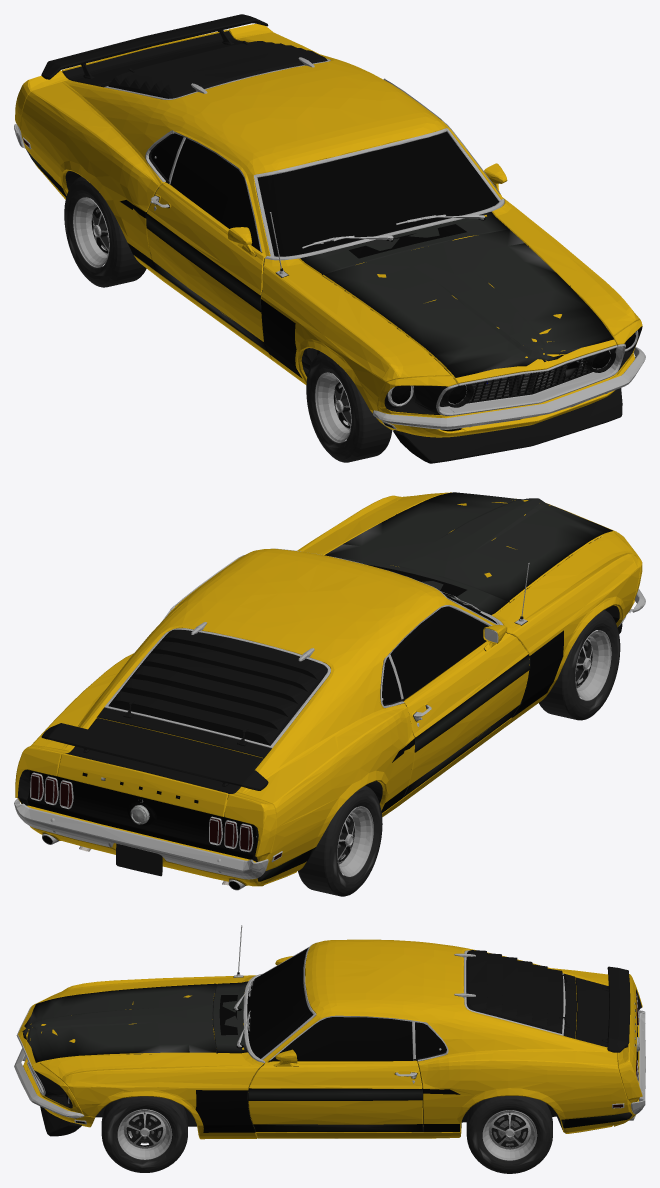
The model's file is sedan_mustang.glb.
3 renders of one model, top to bottom at view 1: azimuth 30°, elevation 25°; view 2: azimuth 150°, elevation 25°; view 3: azimuth 270°, elevation 25°, orthographic. The views are drawn at different scales.
Visible parts, largest first — view 1: _M_Badge_Maxgroup1_Badge_0, _group1M_Glass_WindowRight_Max.002_Window_0, polySurface137__Ford_Mustang302LP_1970_Wheel2A_3D_3DWheel2A_, polySurface400__Ford_Mustang302LP_1970_Wheel2A_3D_3DWheel2A_, _group1M_Rim_Main_Max3, _group1M_Rim_Main_Max1; view 2: _M_Badge_Maxgroup1_Badge_0, _group1M_Glass_WindowRight_Max.002_Window_0, polySurface400__Ford_Mustang302LP_1970_Wheel2A_3D_3DWheel2A_, polySurface137__Ford_Mustang302LP_1970_Wheel2A_3D_3DWheel2A_, _group1M_Rim_Main_Max1, _group1M_Rim_Main_Max3; view 3: _M_Badge_Maxgroup1_Badge_0, _group1M_Glass_WindowRight_Max.002_Window_0, polySurface273__Ford_Mustang302LP_1970_Wheel2A_3D_3DWheel2A_, polySurface1__Ford_Mustang302LP_1970_Wheel2A_3D_3DWheel2A_Ma, _group1M_Rim_Main_Max, _group1M_Rim_Main_Max2.
Part boxes in pixels (left/top/right/bottom): _M_Badge_Maxgroup1_Badge_0: left=14, top=14, right=645, bottom=463; _group1M_Glass_WindowRight_Max.002_Window_0: left=23, top=131, right=499, bottom=256; polySurface137__Ford_Mustang302LP_1970_Wheel2A_3D_3DWheel2A_: left=306, top=352, right=392, bottom=462; polySurface400__Ford_Mustang302LP_1970_Wheel2A_3D_3DWheel2A_: left=64, top=176, right=146, bottom=287; _group1M_Rim_Main_Max3: left=73, top=197, right=109, bottom=267; _group1M_Rim_Main_Max1: left=315, top=372, right=351, bottom=442; _M_Badge_Maxgroup1_Badge_0: left=14, top=492, right=645, bottom=890; _group1M_Glass_WindowRight_Max.002_Window_0: left=31, top=594, right=496, bottom=860; polySurface400__Ford_Mustang302LP_1970_Wheel2A_3D_3DWheel2A_: left=298, top=786, right=382, bottom=896; polySurface137__Ford_Mustang302LP_1970_Wheel2A_3D_3DWheel2A_: left=539, top=610, right=620, bottom=720; _group1M_Rim_Main_Max1: left=575, top=630, right=611, bottom=700; _group1M_Rim_Main_Max3: left=337, top=806, right=373, bottom=876; _M_Badge_Maxgroup1_Badge_0: left=14, top=925, right=645, bottom=1139; _group1M_Glass_WindowRight_Max.002_Window_0: left=247, top=948, right=638, bottom=1107; polySurface273__Ford_Mustang302LP_1970_Wheel2A_3D_3DWheel2A_: left=466, top=1096, right=552, bottom=1173; polySurface1__Ford_Mustang302LP_1970_Wheel2A_3D_3DWheel2A_Ma: left=101, top=1096, right=187, bottom=1172; _group1M_Rim_Main_Max: left=117, top=1109, right=172, bottom=1159; _group1M_Rim_Main_Max2: left=482, top=1110, right=537, bottom=1160.
Bounding box in the file's own units: 0.0184 × 0.0131 × 0.0476.
